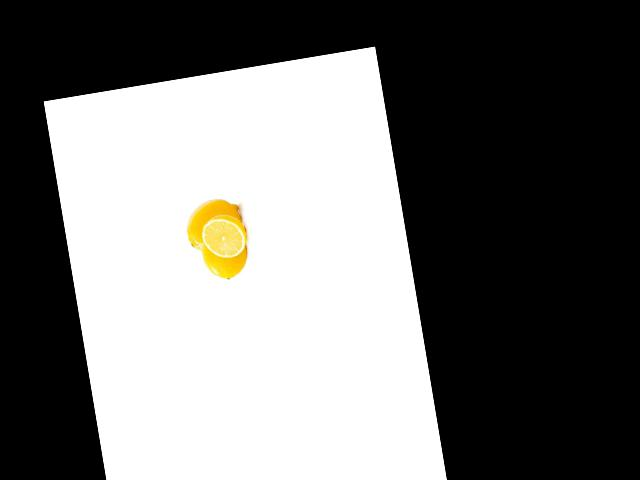lemon: (197, 224, 252, 282)
